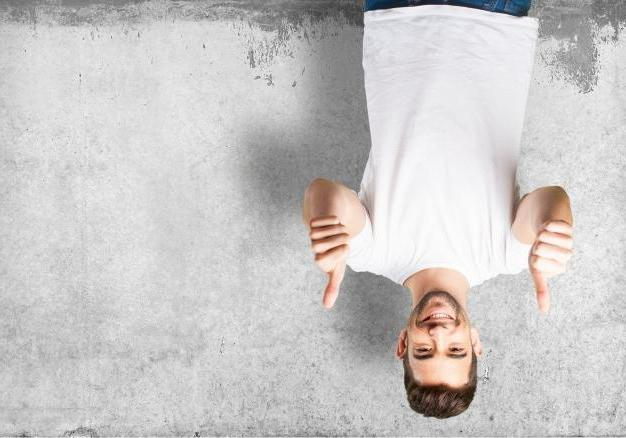thumbsdown: (529, 220, 573, 312), (310, 215, 349, 308)
